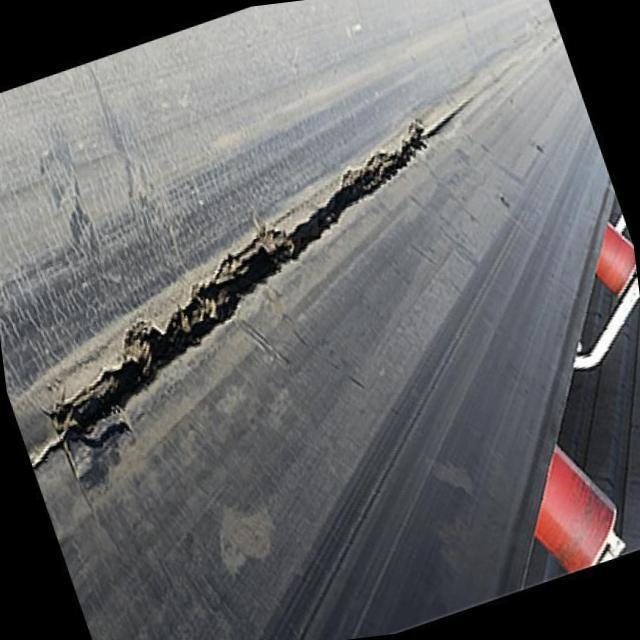Tear: (29, 90, 483, 477)
